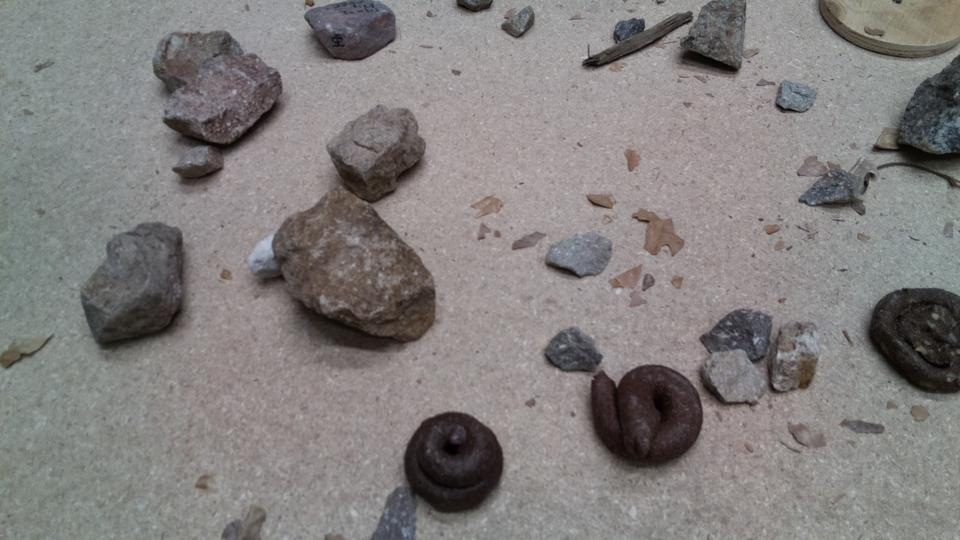poop: (589, 362, 707, 466), (402, 408, 505, 516), (867, 282, 960, 397)
